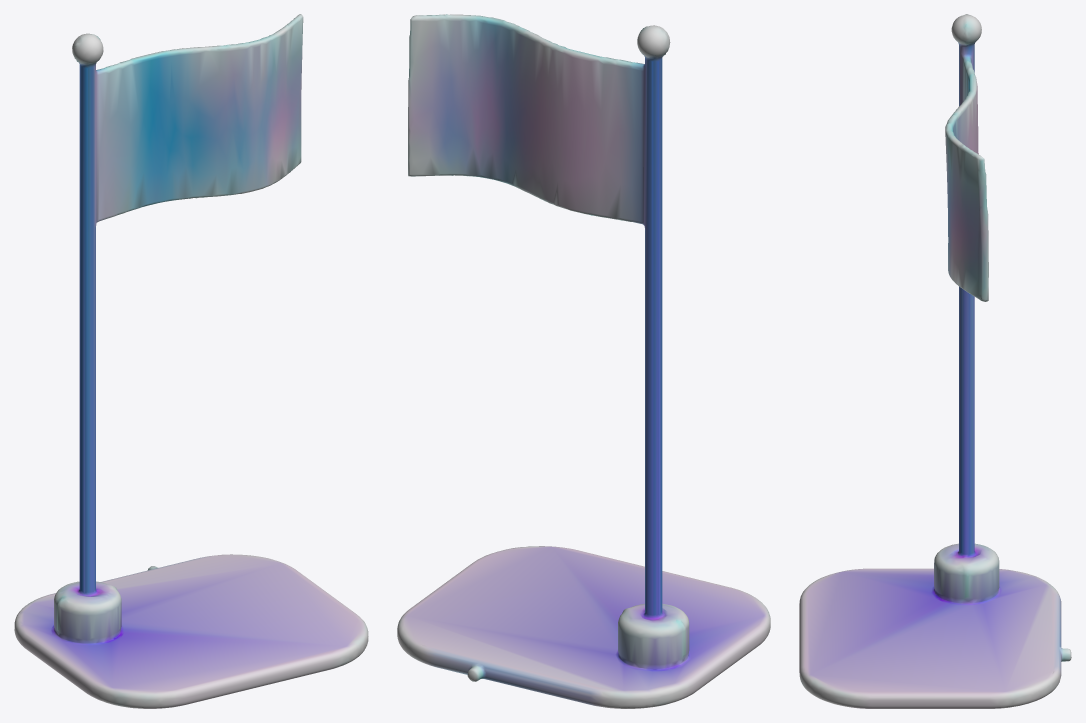
File: flag-lod1.glb
The picture shows the model from 3 angles, left to right: view 1: azimuth 30°, elevation 25°; view 2: azimuth 150°, elevation 25°; view 3: azimuth 270°, elevation 25°; orthographic projection. The views are drawn at different scales.
Parts seen in each view (by area): view 1: flag-lod1; view 2: flag-lod1; view 3: flag-lod1.
Part boxes in pixels (<box>): flag-lod1: <box>14,14,368,708</box>; flag-lod1: <box>397,14,770,708</box>; flag-lod1: <box>799,14,1071,708</box>.
Bounding box in the file's own units: 0.4216 × 0.896 × 0.374.
